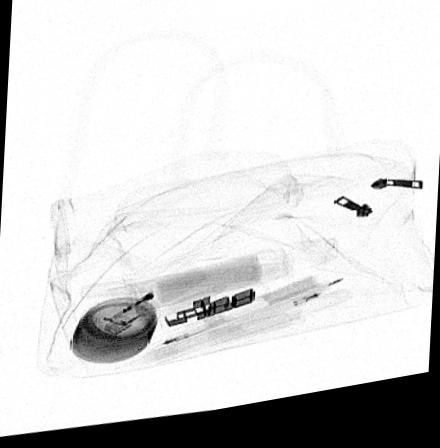Lighter: (93, 291, 173, 339)
